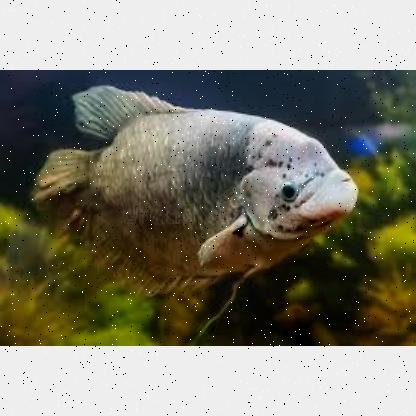gurame: (39, 86, 357, 298)
